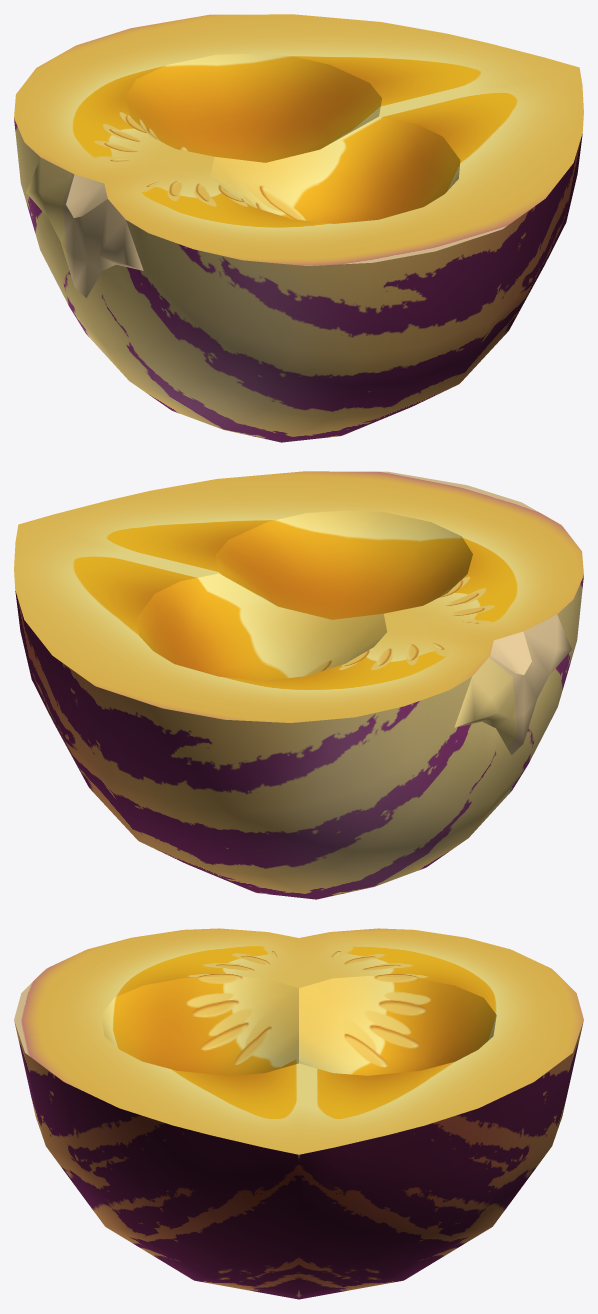
File: Lucuma_Half_02.fbx
3 views of the same model, one above another, from view 1: azimuth 30°, elevation 25°; view 2: azimuth 150°, elevation 25°; view 3: azimuth 270°, elevation 25° (orthographic). The views are drawn at different scales.
Visible parts, largest first — view 1: Lucuma_Half_02; view 2: Lucuma_Half_02; view 3: Lucuma_Half_02.
Boxes of the visible parts, <box> form: Lucuma_Half_02: <box>14,14,583,442</box>; Lucuma_Half_02: <box>14,471,583,899</box>; Lucuma_Half_02: <box>14,928,583,1299</box>.
Bounding box in the file's own units: 32.03 × 16.61 × 33.44.
